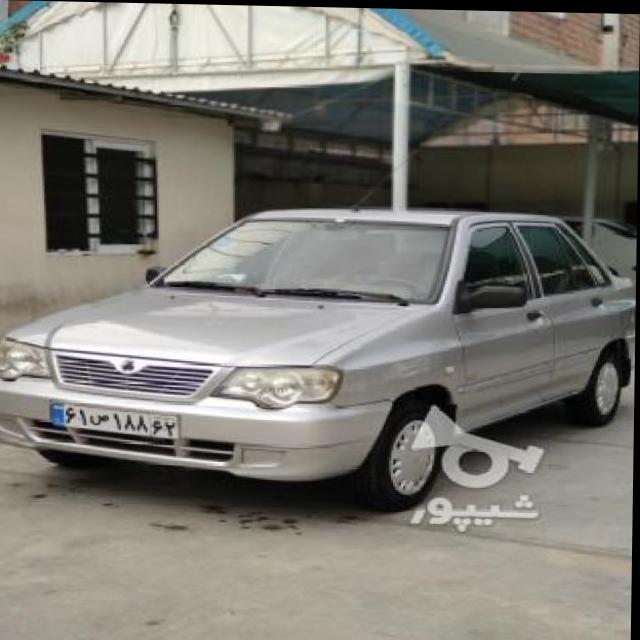licence: (46, 396, 180, 436)
